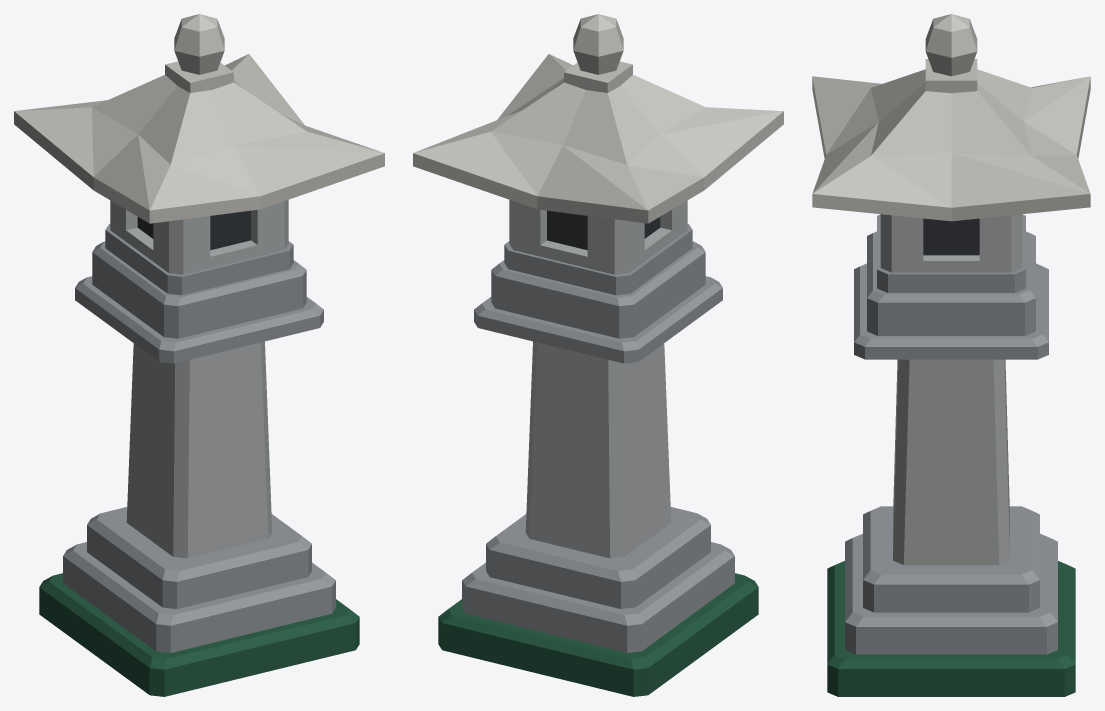
File: stone-lantern-d56d0a.glb
The picture shows the model from 3 angles, left to right: view 1: azimuth 30°, elevation 25°; view 2: azimuth 150°, elevation 25°; view 3: azimuth 270°, elevation 25°; orthographic projection. The views are drawn at different scales.
Parts seen in each view (by area): view 1: stone-lantern-mesh; view 2: stone-lantern-mesh; view 3: stone-lantern-mesh.
Boxes of the visible parts, left/top/right/bottom form: stone-lantern-mesh: left=14, top=14, right=384, bottom=696; stone-lantern-mesh: left=413, top=14, right=783, bottom=696; stone-lantern-mesh: left=812, top=14, right=1090, bottom=696.
Size of the model in its own units: 0.56 by 1.4 by 0.56.
